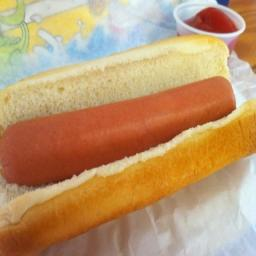hotdog: (0, 123, 102, 186), (46, 112, 163, 163), (154, 76, 234, 124), (98, 98, 164, 114)
